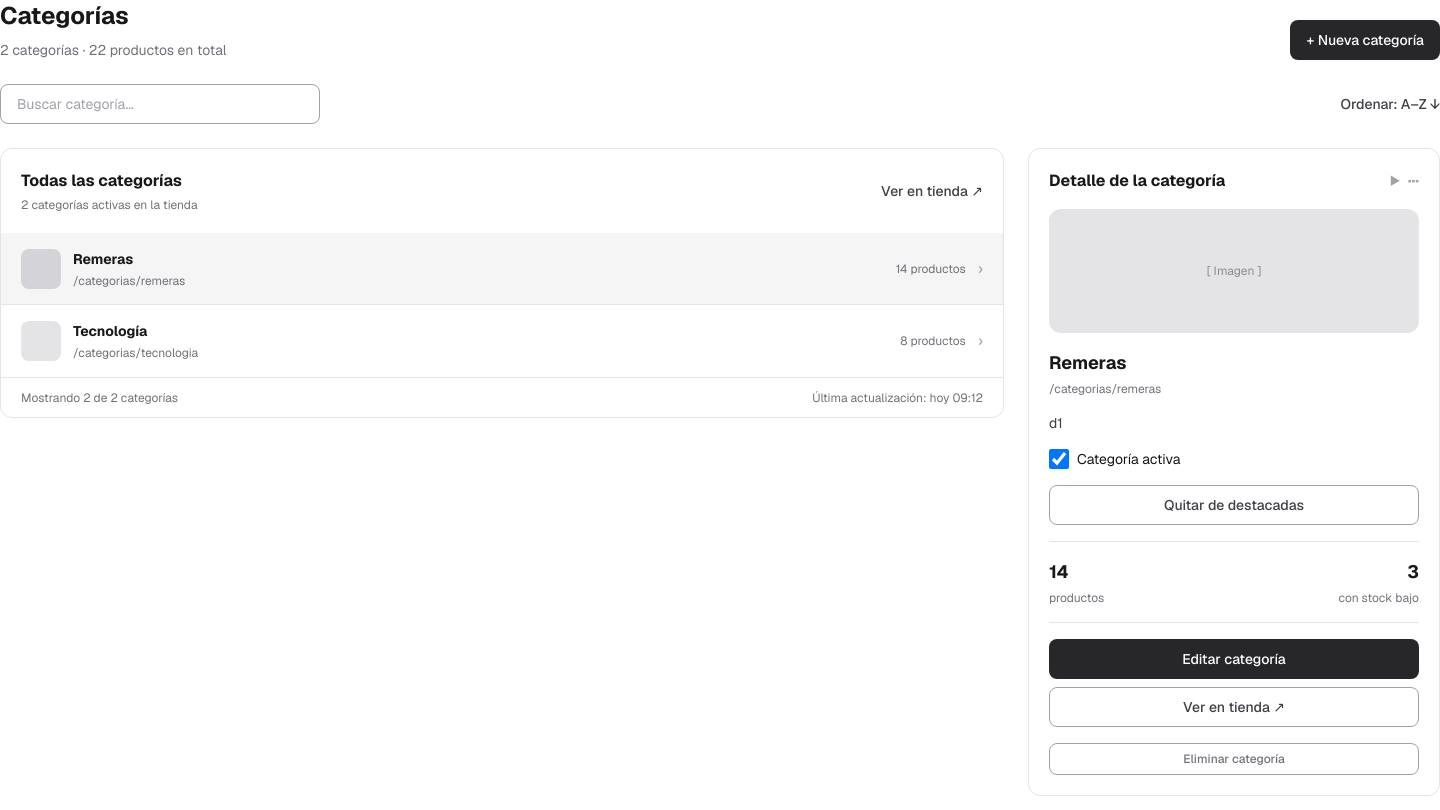
it: T3 S6 UI probes › edit keeps stored slug and 409 delete stays open with the exact detail
Click the button "Editar categoría" at (1234, 659), box [1049, 639, 1419, 679]
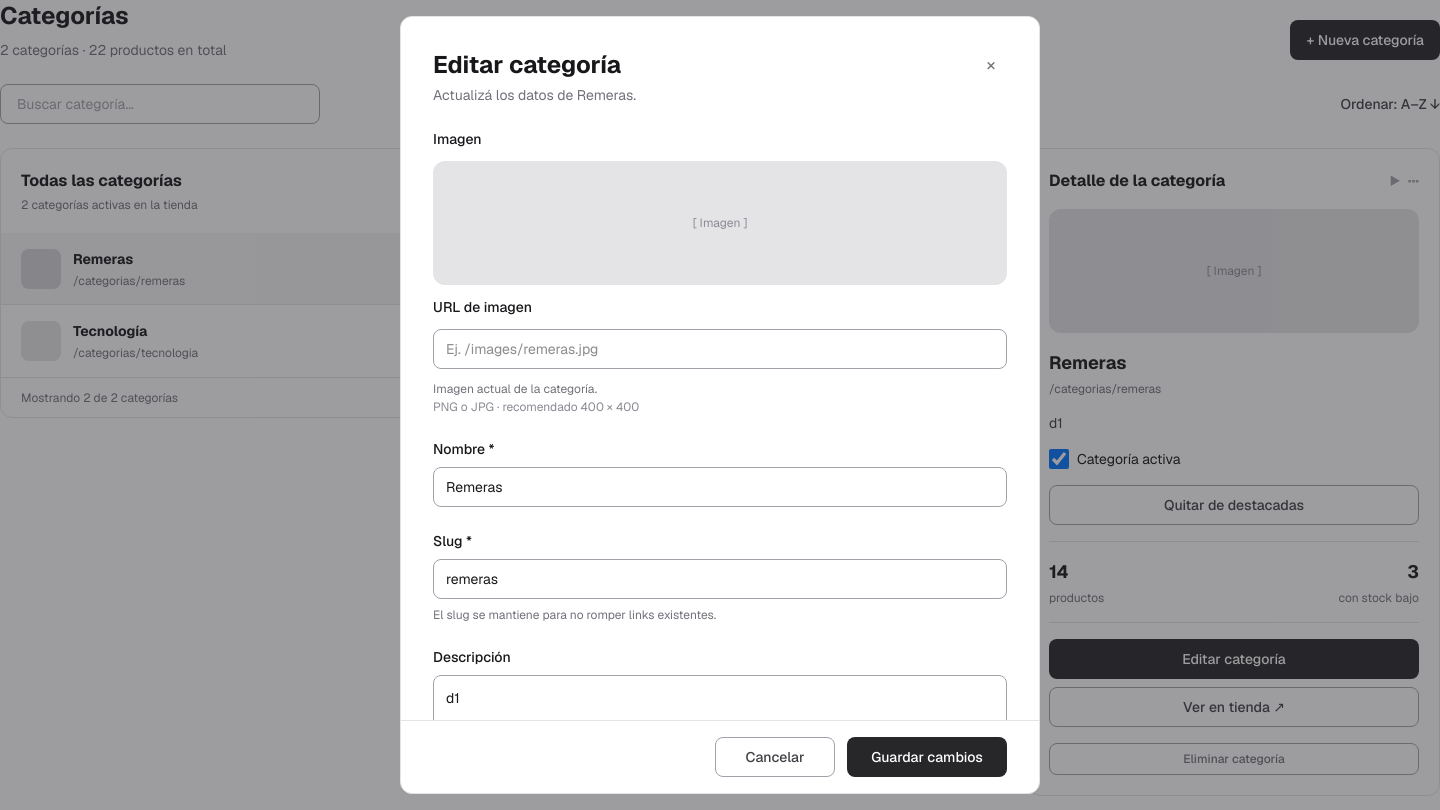
Replace the text in the field labelled "Nombre *" with "Remeras Pro" at (720, 487), box [433, 467, 1007, 507]
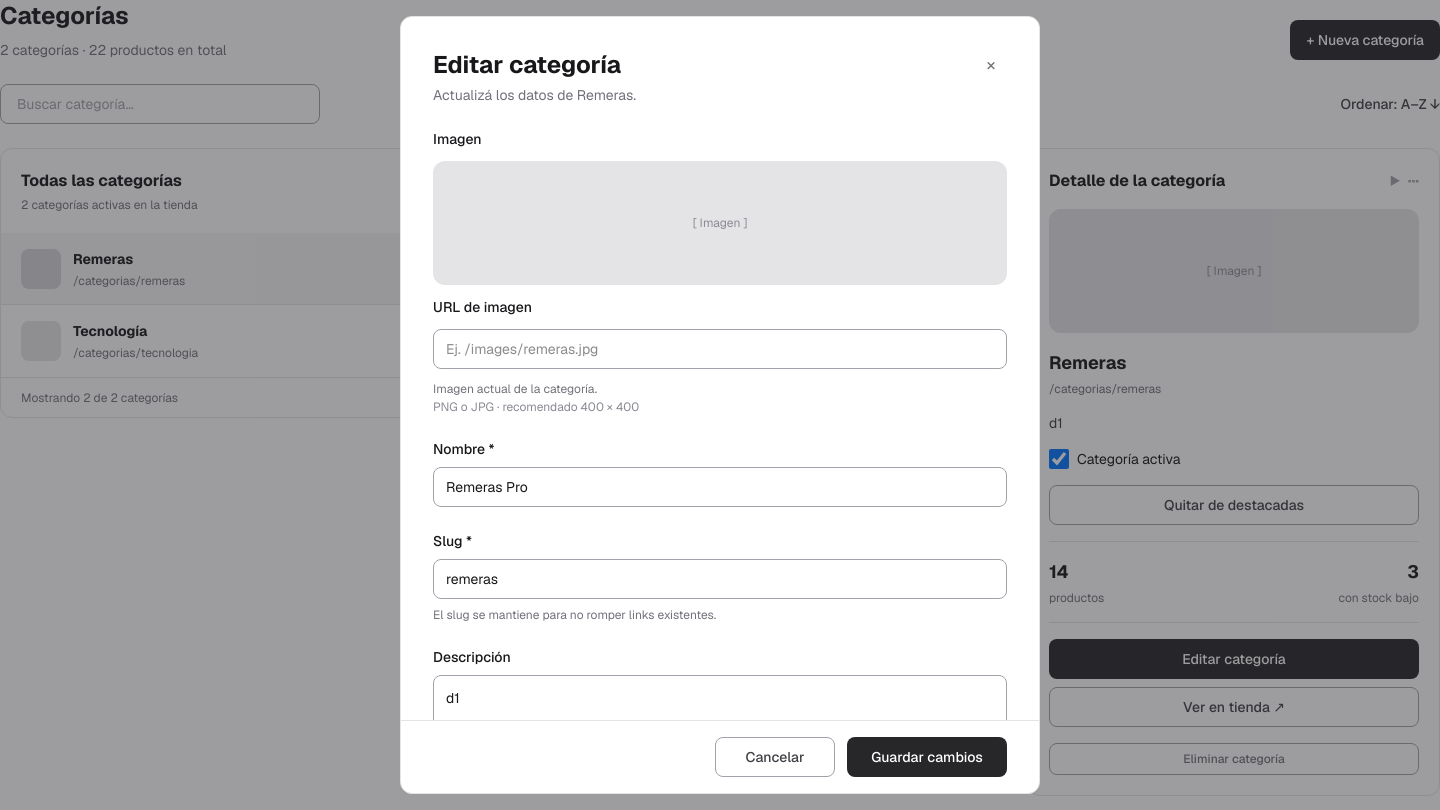
Click the button "Guardar cambios" at (927, 757), box [847, 737, 1007, 777]
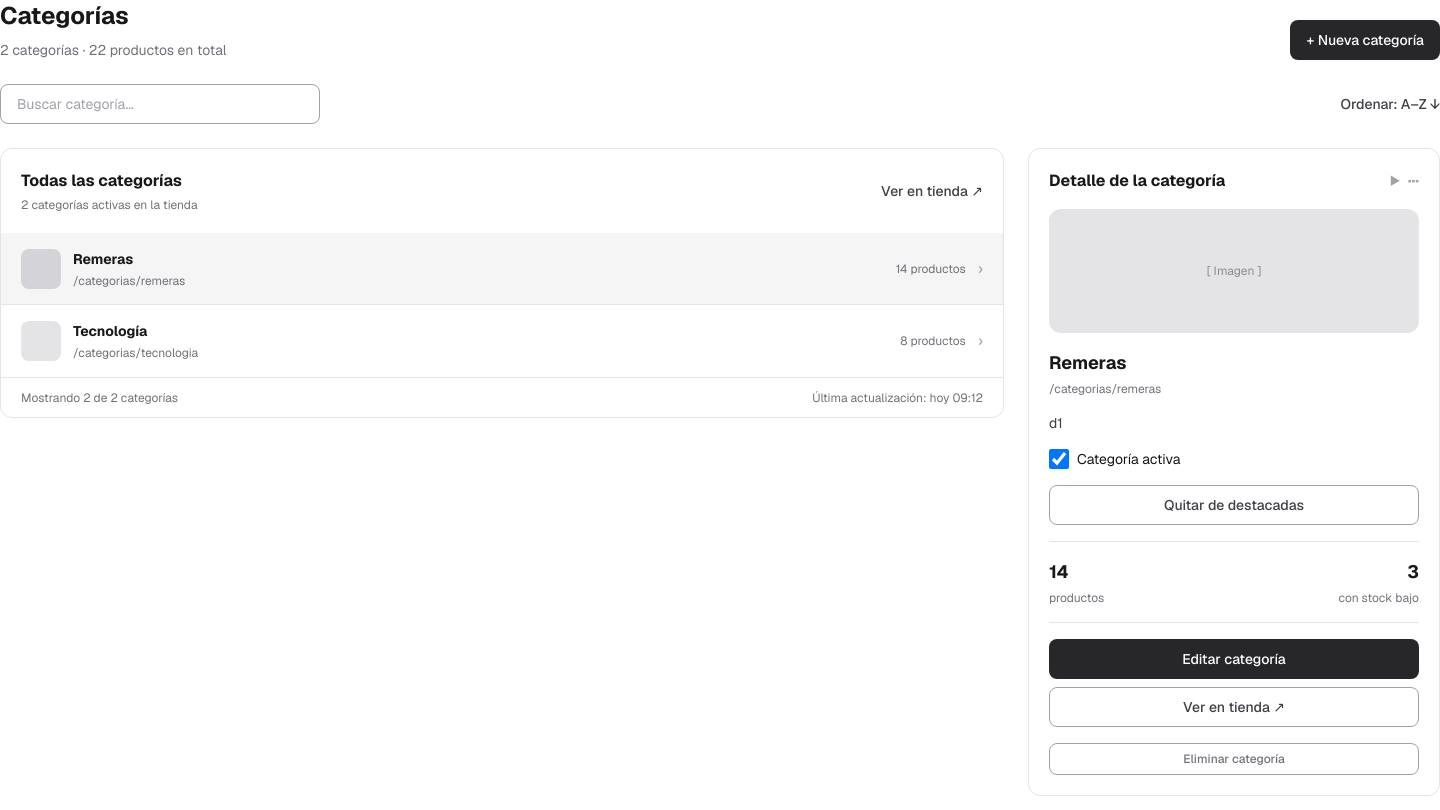
Click the button "Eliminar categoría" at (1234, 759), box [1049, 743, 1419, 775]
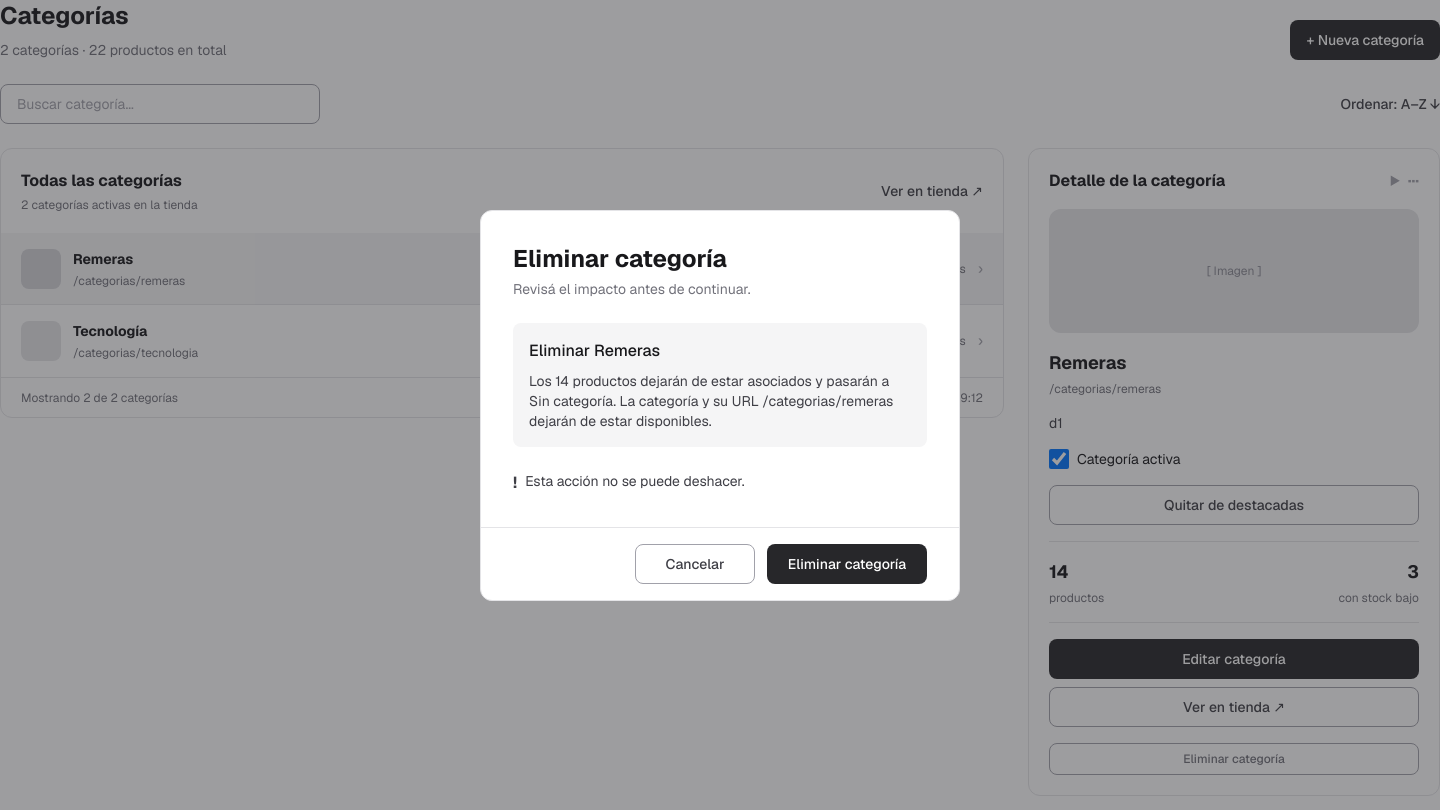
Now the dialog has class "max-w-[480px]", box [480, 210, 960, 600]
Click the button "Eliminar categoría" at (847, 564), box [767, 544, 927, 584]
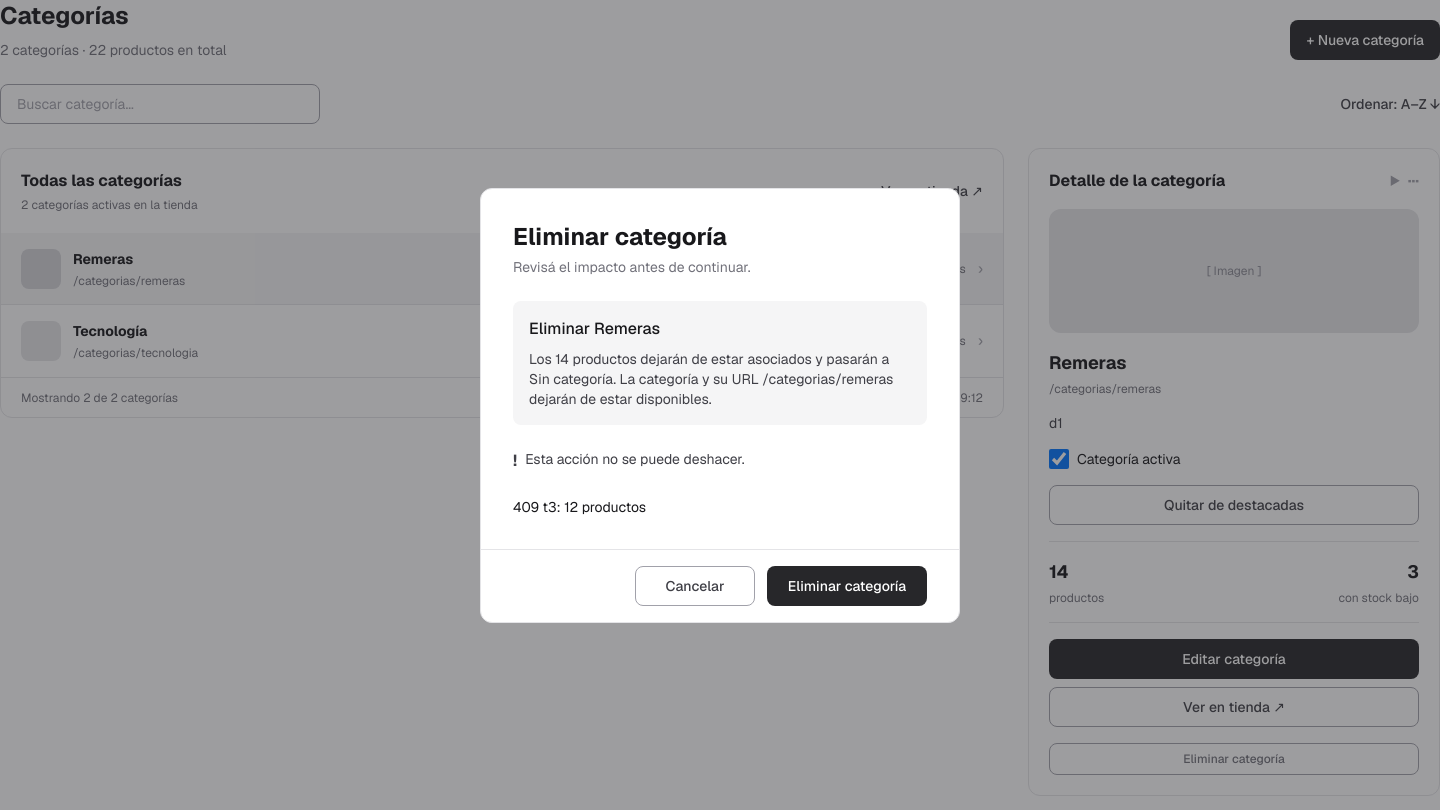
Now the dialog is shown, box [480, 188, 960, 622]
Now the message reads "409 t3: 12 productos", box [513, 498, 646, 516]
